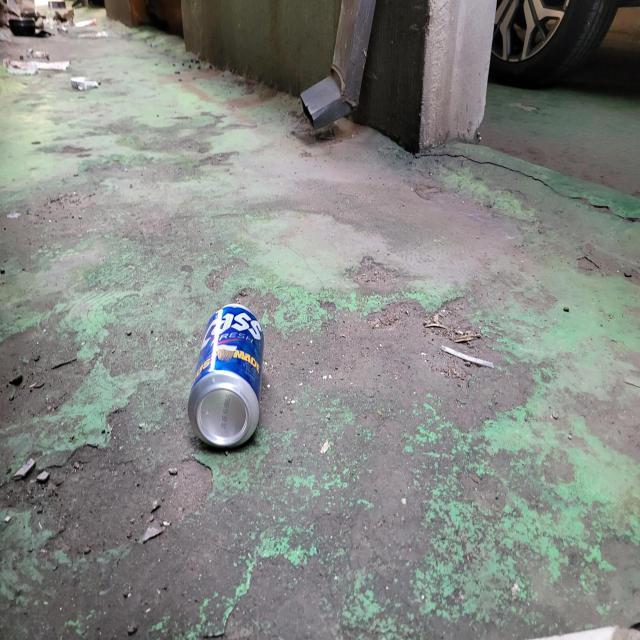can: (188, 303, 264, 448)
